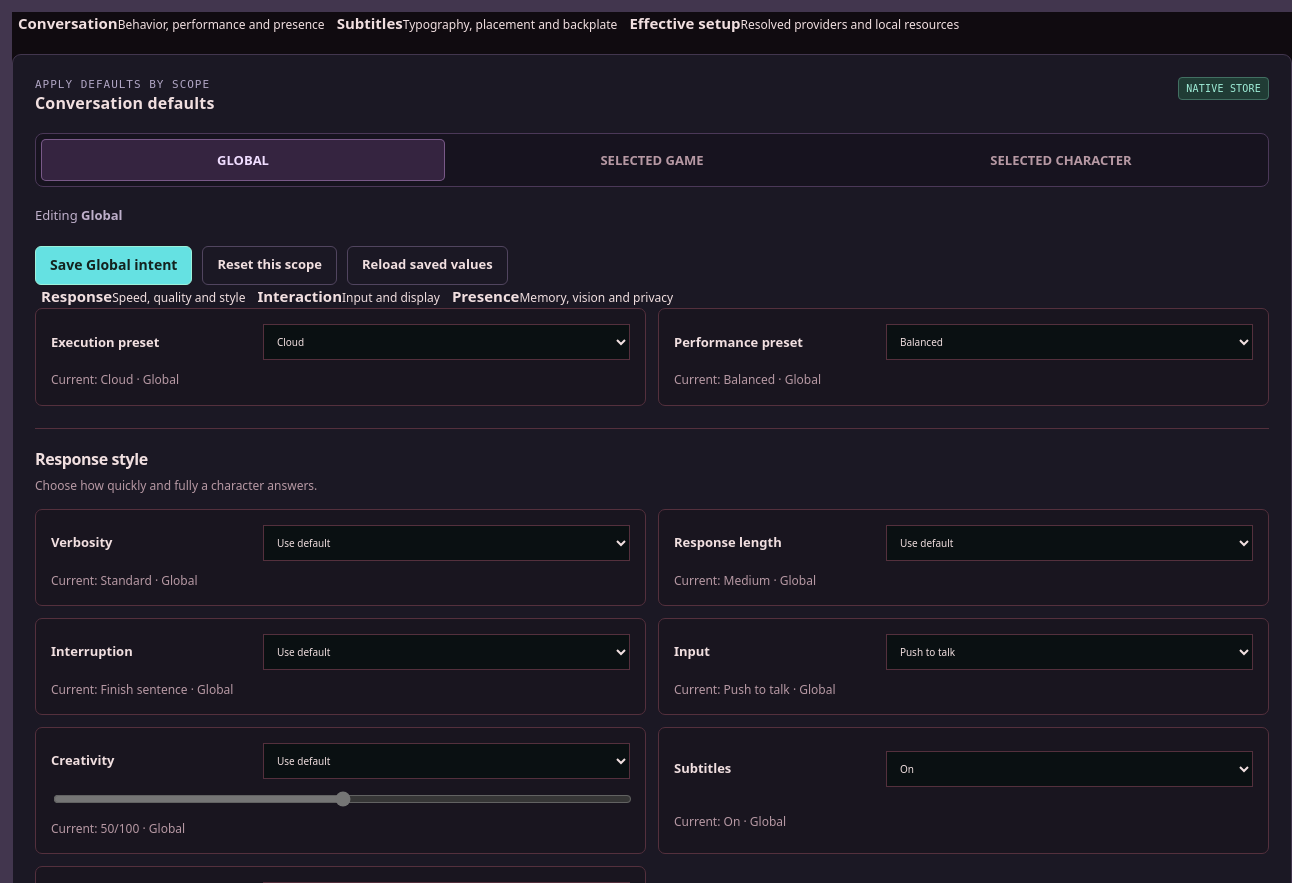
Test: native product preferences › saves only bounded subtitle overrides and exposes native font provenance
The width and height of the screenshot is (1292, 883).
Click the button "Subtitles" at (477, 24), box [331,12,623,36]
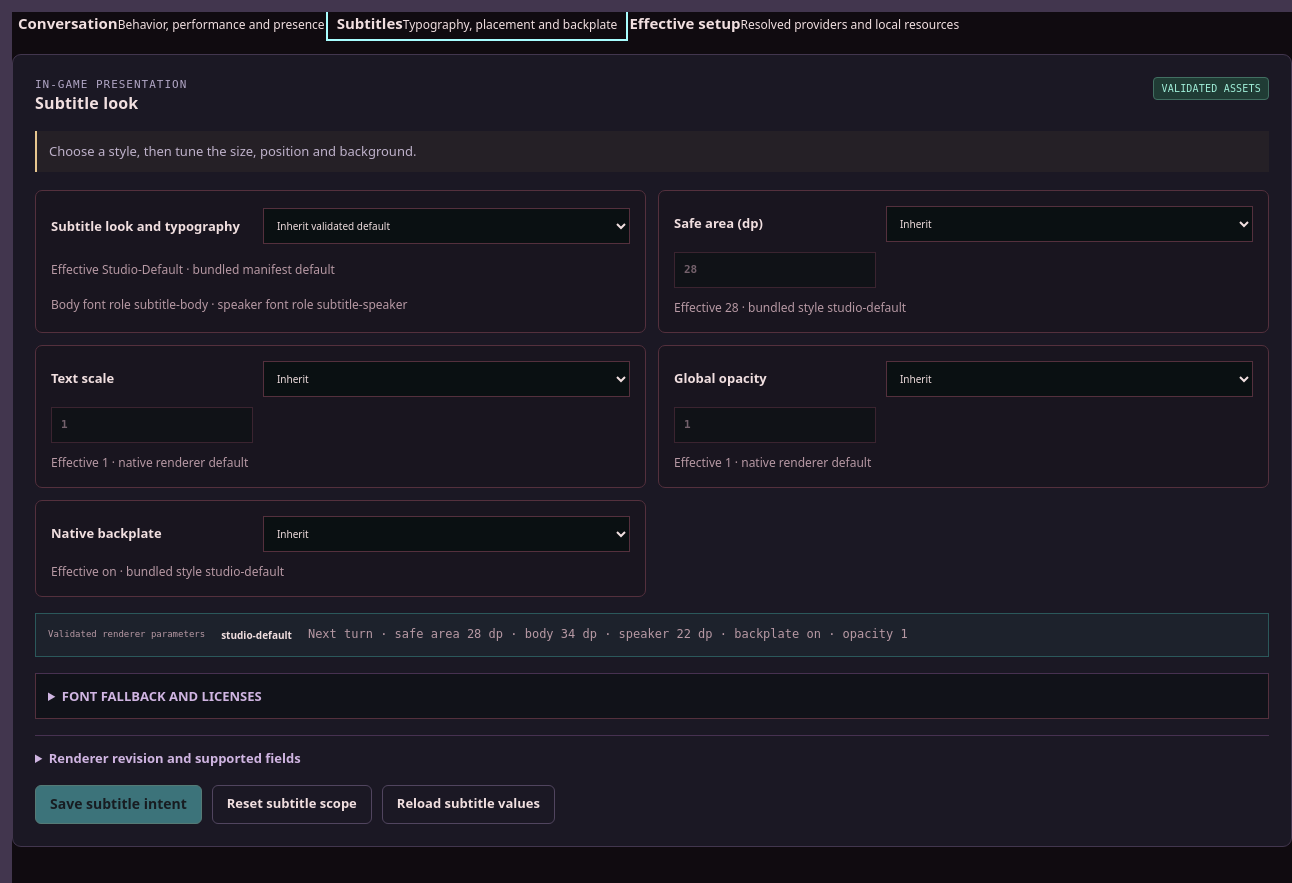
expect the dropdown named "Bundled subtitle style" is shown: met, box [263,208,630,244]
Select "Override" in the dropdown named "Text scale source" at (446, 379), box [263,361,630,397]
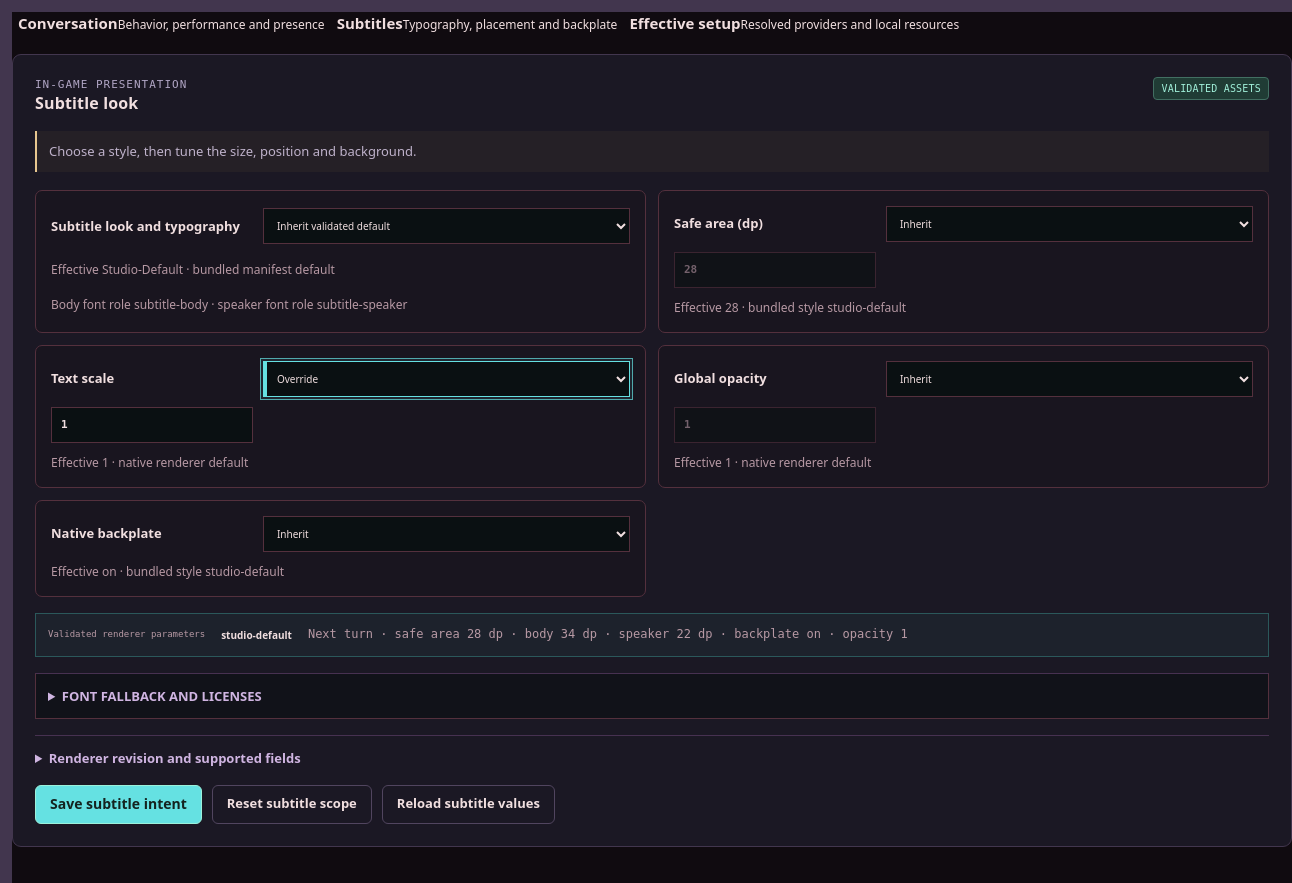
Replace the text in the number field named "Text scale" with "1.25" at (152, 425), box [51,407,253,443]
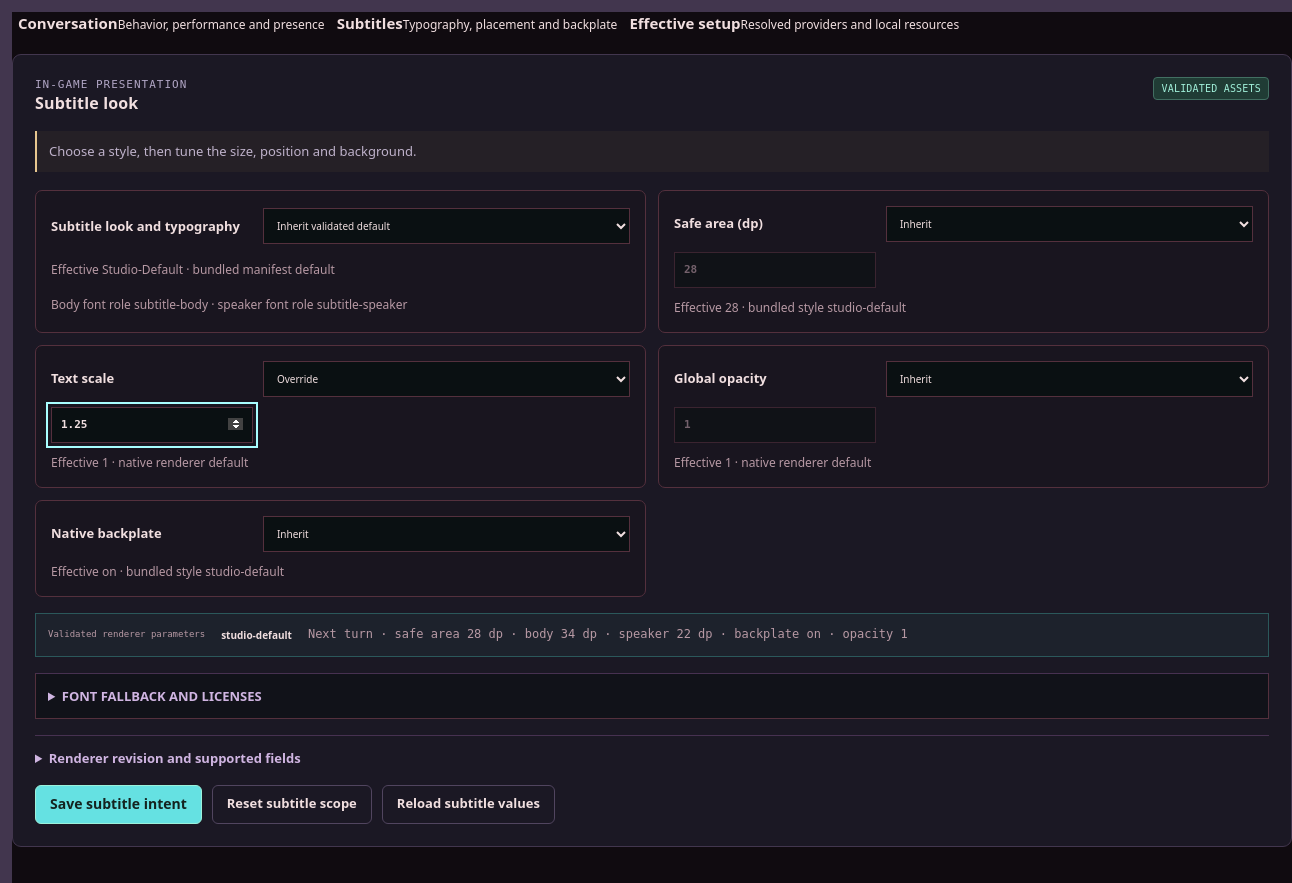
Select "Off" in the dropdown labelled "Native backplate" at (446, 534), box [263,516,630,552]
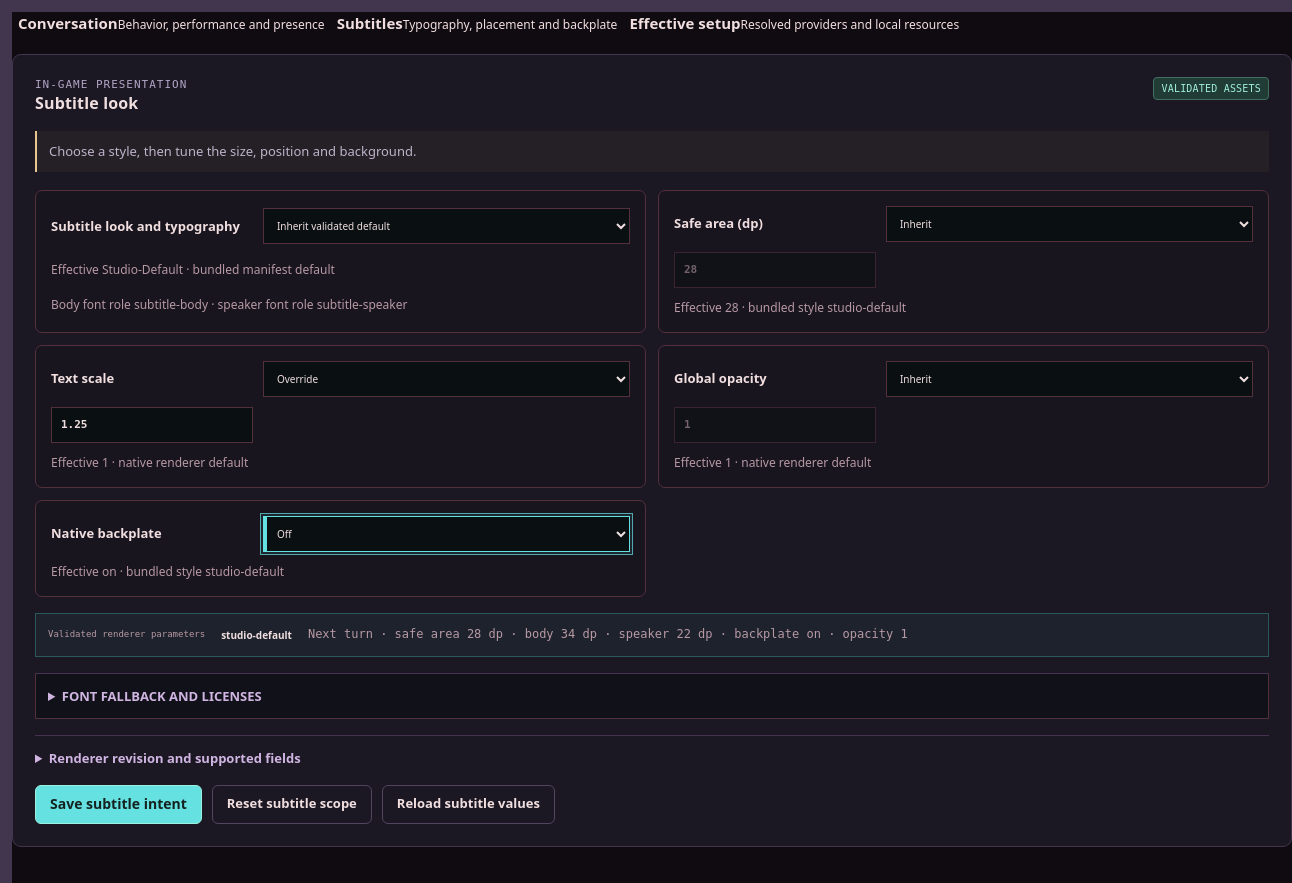
Click the button "Save subtitle intent" at (118, 804), box [35,785,202,824]
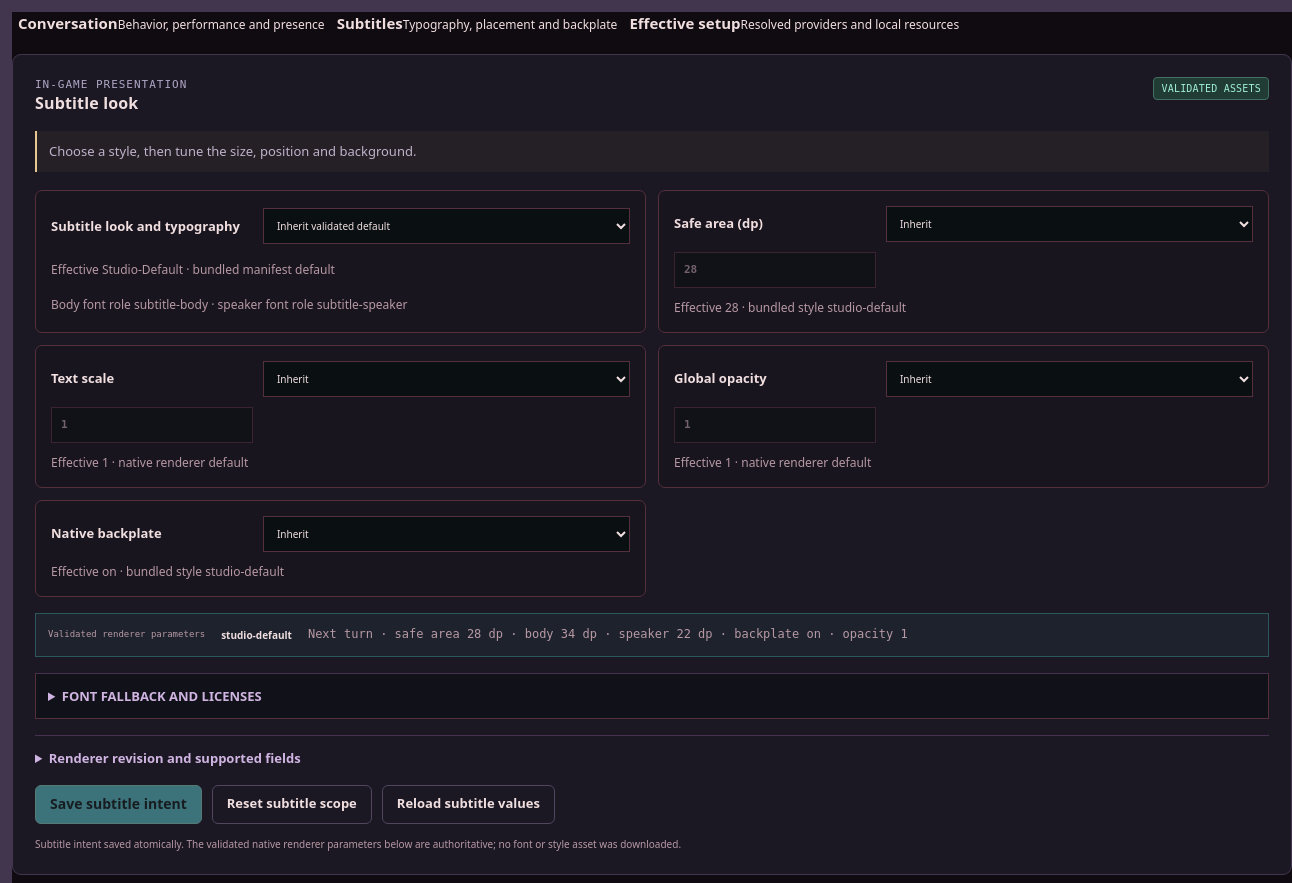
expect the text "no font or style asset was downloaded" is shown: met, box [35,837,681,851]
